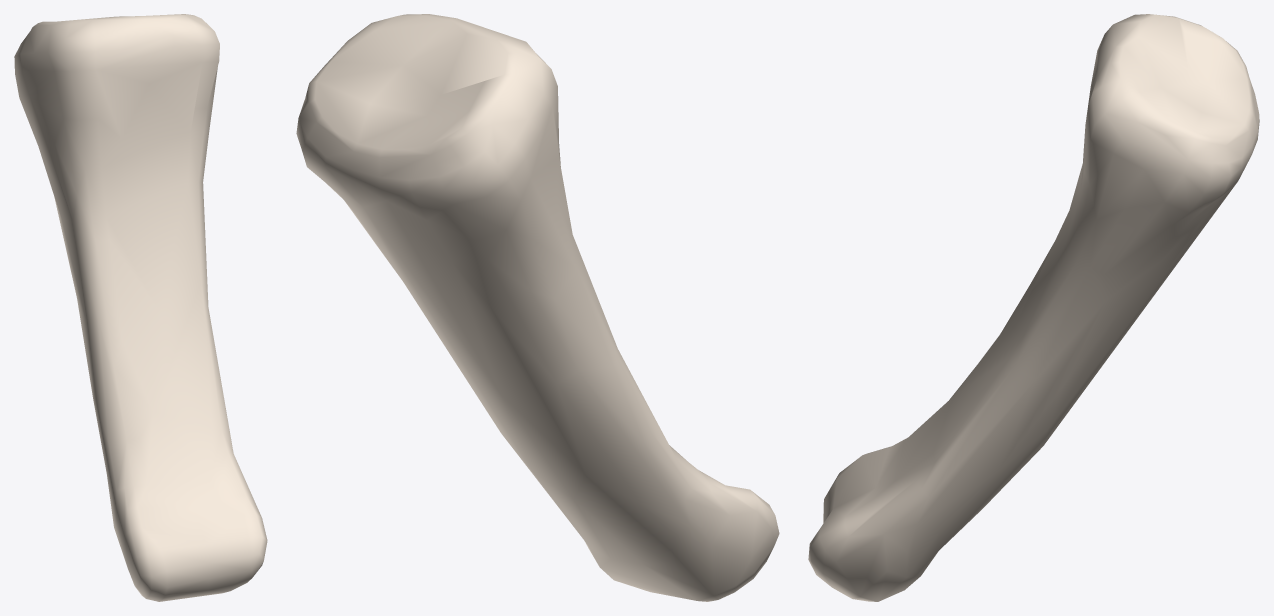
Rendered from right_digit_3_proximal.glb.
3 views of the same model, side by side, from view 1: azimuth 30°, elevation 25°; view 2: azimuth 150°, elevation 25°; view 3: azimuth 270°, elevation 25° (orthographic). The views are drawn at different scales.
Parts seen in each view (by area): view 1: Proximal phalanx of 3rd finger.r; view 2: Proximal phalanx of 3rd finger.r; view 3: Proximal phalanx of 3rd finger.r.
Boxes of the visible parts, x1=… form: Proximal phalanx of 3rd finger.r: x1=14, y1=14, x2=267, y2=601; Proximal phalanx of 3rd finger.r: x1=296, y1=14, x2=779, y2=601; Proximal phalanx of 3rd finger.r: x1=808, y1=14, x2=1259, y2=601.
Size of the model in its own units: 0.0185 by 0.0415 by 0.0298.
